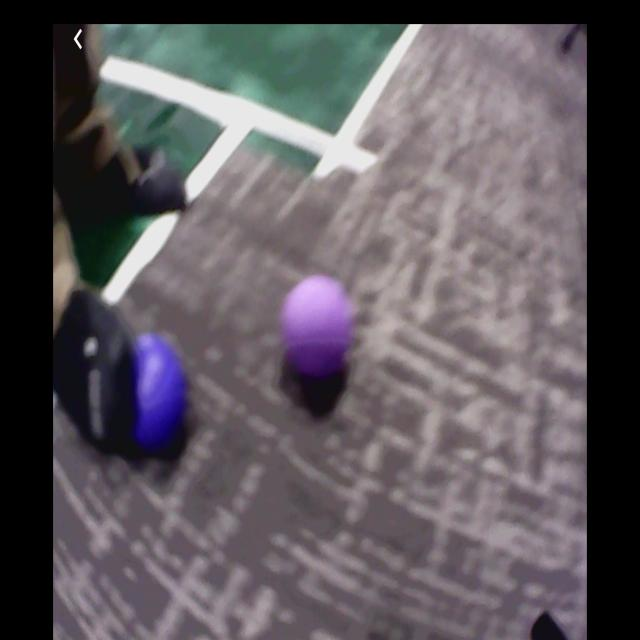ball: (281, 276, 357, 385), (115, 340, 190, 450)
